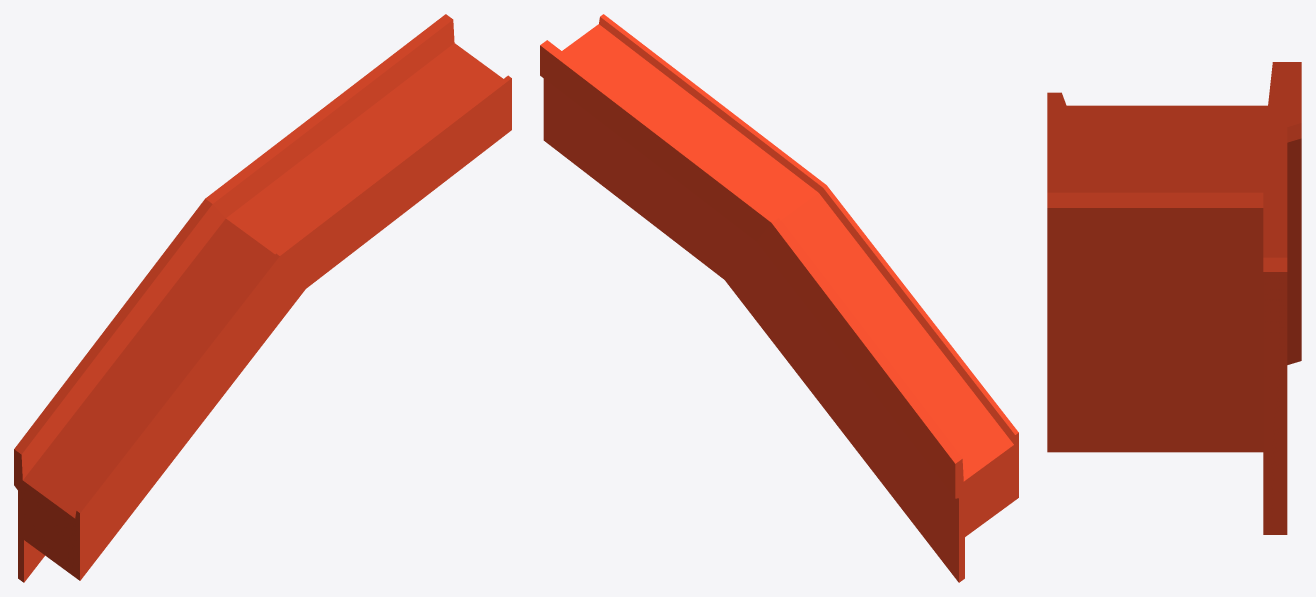
File: roof-metal-regular-moderate-2m-front.fbx
The picture shows the model from 3 angles, left to right: view 1: azimuth 30°, elevation 25°; view 2: azimuth 150°, elevation 25°; view 3: azimuth 270°, elevation 25°; orthographic projection. The views are drawn at different scales.
Visible parts, largest first — view 1: roof-metal-regular-moderate-2m-front; view 2: roof-metal-regular-moderate-2m-front; view 3: roof-metal-regular-moderate-2m-front.
Boxes of the visible parts, bbox=[...] form: roof-metal-regular-moderate-2m-front: bbox=[14, 14, 511, 582]; roof-metal-regular-moderate-2m-front: bbox=[540, 14, 1018, 582]; roof-metal-regular-moderate-2m-front: bbox=[1047, 62, 1301, 534].
Size of the model in its own units: 2 by 2.02 by 0.53.
